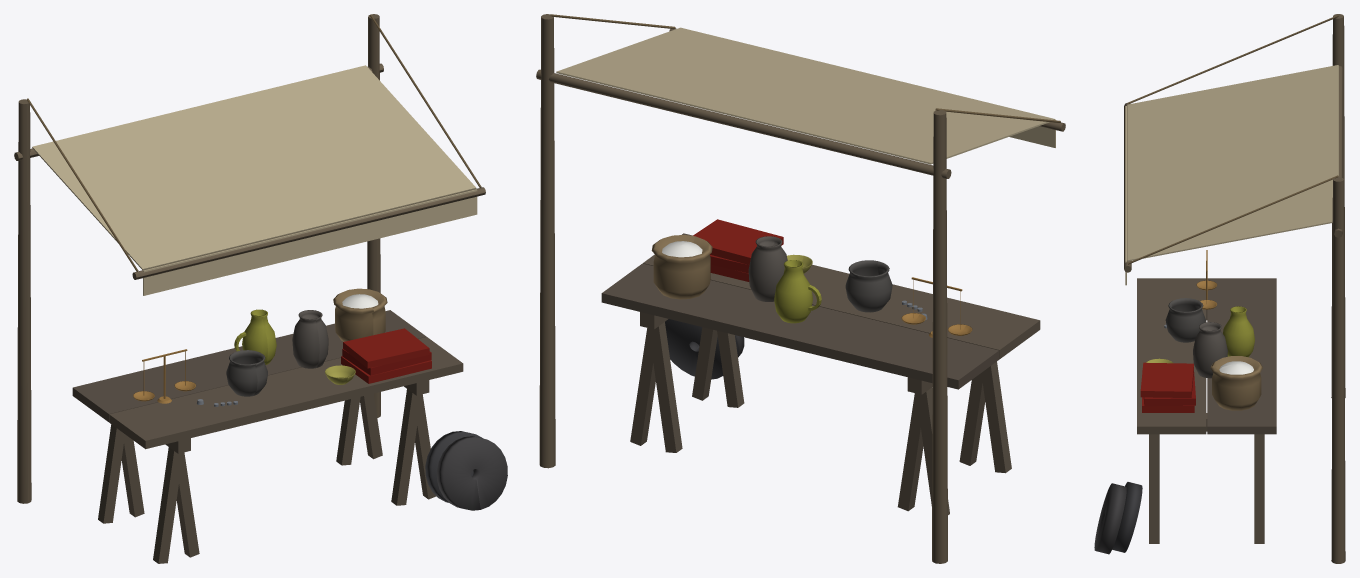
File: market-stall-1000.glb
3 views of the same model, side by side, from view 1: azimuth 30°, elevation 25°; view 2: azimuth 150°, elevation 25°; view 3: azimuth 270°, elevation 25° (orthographic). The views are drawn at different scales.
Parts seen in each view (by area): view 1: awning-cloth, table-plank-front, awning-valance, table-plank-back, awning-pole-west, quernstone-lower, trestle-leg-front-inner (×2), trestle-leg-front-outer (×2), awning-front-spar, trestle-leg-back-outer (×2), trestle-leg-back-inner (×2), cloth-bale-fold-03 (+8 smaller); view 2: awning-cloth, table-plank-back, table-plank-front, awning-pole-east, awning-pole-west, awning-crossbar, trestle-leg-back-inner (×2), trestle-leg-front-outer (×2), salt-sack, trestle-leg-back-outer (×2), trestle-leg-front-inner (×2), pot-cooking-thetford (+4 smaller); view 3: awning-cloth, table-plank-back, table-plank-front, awning-pole-east, salt-sack, cloth-bale-fold-03, quernstone-lower, pot-cooking-thetford, jar-storage-thetford, awning-pole-west, jug-stamford-glazed, trestle-leg-front-outer (+10 smaller).
Part boxes in pixels (x1,y1,x2,y2): awning-cloth: (32,65,476,270); table-plank-front: (109,337,463,449); awning-valance: (143,189,477,295); table-plank-back: (72,310,426,421); awning-pole-west: (17,99,31,503); quernstone-lower: (437,436,507,510); trestle-leg-front-inner (×2): (176,389,420,557); trestle-leg-front-outer (×2): (153,393,436,563); awning-front-spar: (132,187,485,279); trestle-leg-back-outer (×2): (98,393,382,523); trestle-leg-back-inner (×2): (121,397,360,517); cloth-bale-fold-03: (343,328,429,368); awning-cloth: (556,27,1054,164); table-plank-back: (601,263,999,389); table-plank-front: (643,233,1040,359); awning-pole-east: (539,14,555,468); awning-pole-west: (932,110,947,563); awning-crossbar: (536,69,951,178); trestle-leg-back-inner (×2): (653,322,923,511); trestle-leg-front-outer (×2): (692,327,1011,473); salt-sack: (651,235,712,299); trestle-leg-back-outer (×2): (630,326,949,514); trestle-leg-front-inner (×2): (717,330,985,465); pot-cooking-thetford: (845,260,892,312); awning-cloth: (1127,65,1338,261); table-plank-back: (1207,278,1276,434); table-plank-front: (1137,278,1206,434); awning-pole-east: (1331,177,1345,563); salt-sack: (1210,356,1262,410); cloth-bale-fold-03: (1140,362,1193,397); quernstone-lower: (1094,483,1126,554); pot-cooking-thetford: (1165,298,1205,342); jar-storage-thetford: (1193,322,1227,378); awning-pole-west: (1331,14,1345,397); jug-stamford-glazed: (1223,306,1254,357); trestle-leg-front-outer: (1149,434,1159,543).
Size of the model in its own units: 2.32 by 2.42 by 1.43.
